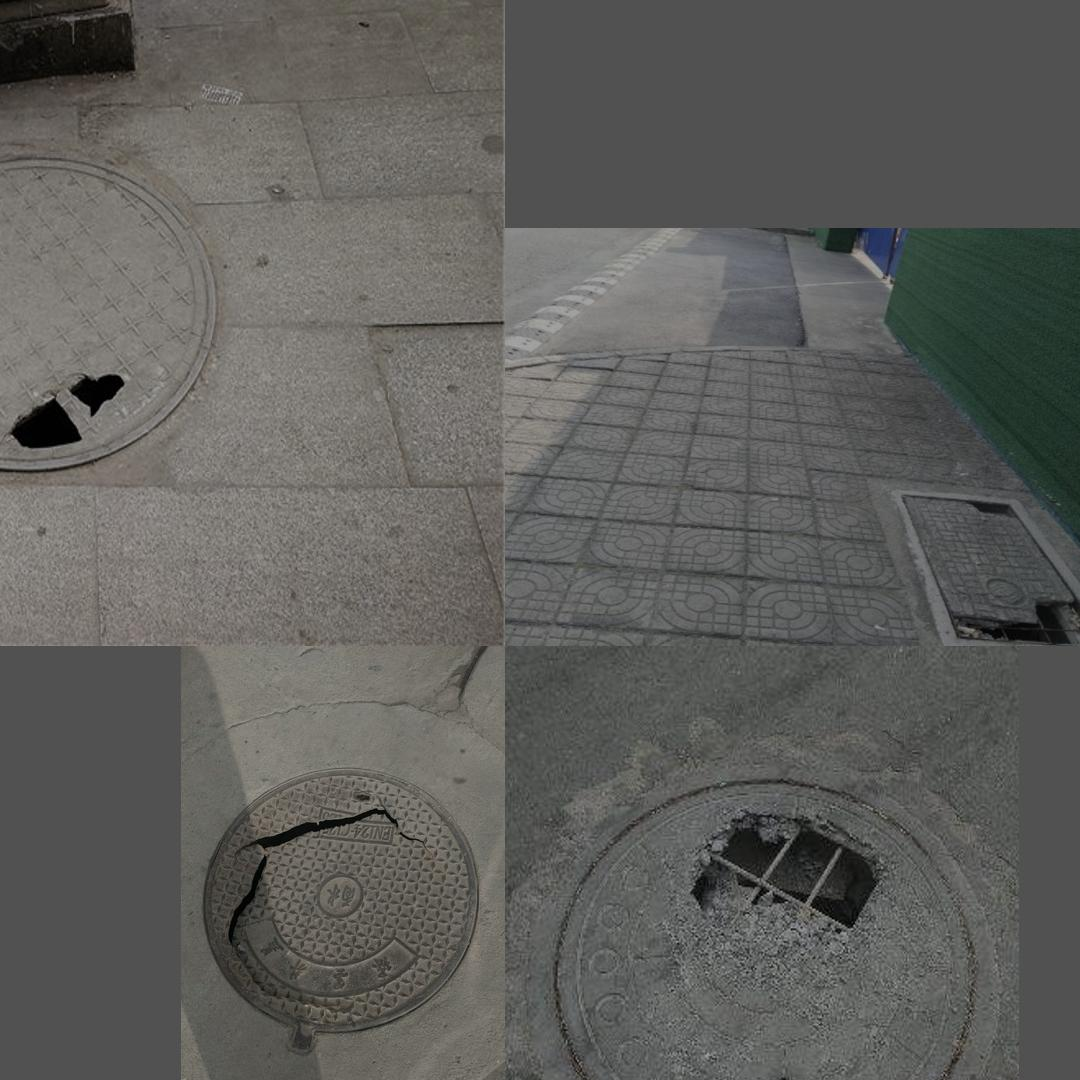broke: (554, 779, 992, 1080), (190, 727, 501, 1080), (0, 150, 214, 470), (890, 489, 1080, 646)
